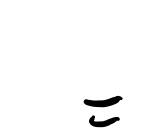eqv: (79, 91, 125, 129)
